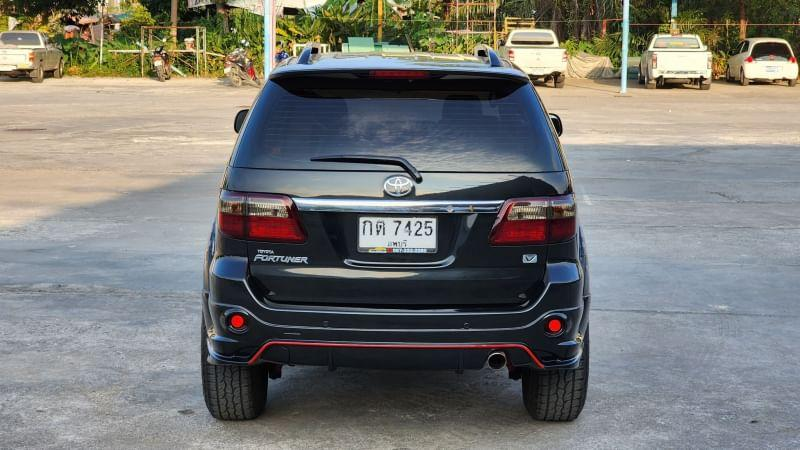license-plate: (356, 213, 439, 256)
